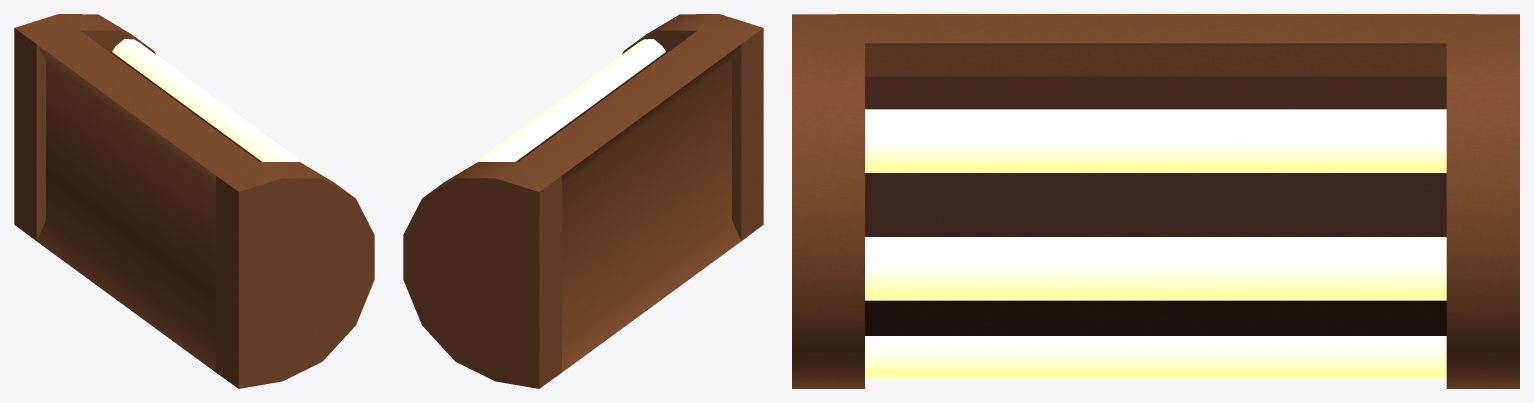
The model's file is FD-006-DoorLight.fbx.
3 renders of one model, left to right at view 1: azimuth 30°, elevation 25°; view 2: azimuth 150°, elevation 25°; view 3: azimuth 270°, elevation 25°, orthographic. The views are drawn at different scales.
Parts seen in each view (by area): view 1: FD-006-DoorLight; view 2: FD-006-DoorLight; view 3: FD-006-DoorLight.
Part boxes in pixels (<box>): FD-006-DoorLight: <box>14,14,374,388</box>; FD-006-DoorLight: <box>403,14,763,388</box>; FD-006-DoorLight: <box>792,14,1519,388</box>.
Size of the model in its own units: 20 by 10 by 7.
